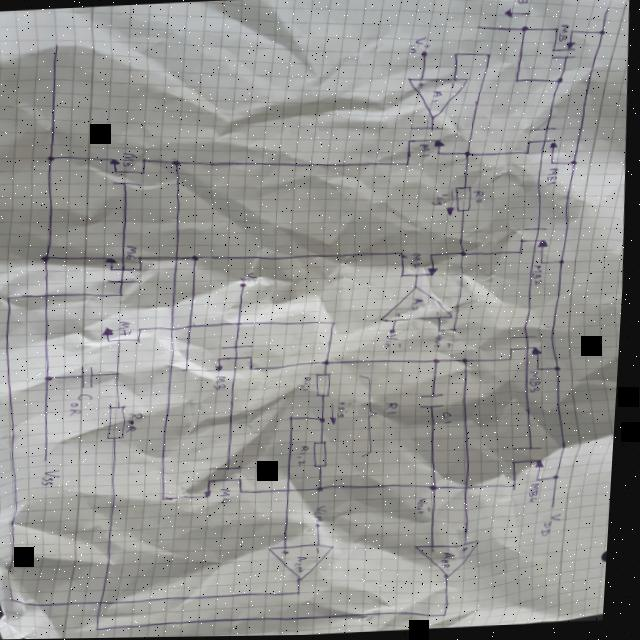capacitor: (420, 391, 452, 412), (82, 365, 100, 390)
crossover: (174, 255, 184, 263), (466, 486, 476, 492), (288, 489, 299, 494), (238, 321, 246, 326), (104, 600, 110, 605), (190, 325, 197, 329), (172, 327, 179, 331), (46, 293, 52, 297)
junction: (433, 485, 443, 493), (46, 155, 57, 161), (173, 160, 183, 166), (451, 52, 461, 58), (100, 625, 110, 631), (322, 417, 330, 424), (464, 151, 472, 158), (193, 255, 202, 261), (43, 255, 52, 261), (482, 54, 491, 60), (436, 359, 444, 365), (291, 415, 299, 421), (185, 367, 193, 373), (322, 486, 329, 492), (520, 27, 528, 32), (462, 251, 468, 257), (572, 162, 579, 167), (465, 359, 472, 364), (327, 360, 334, 365), (561, 260, 568, 265), (9, 295, 16, 300), (599, 31, 605, 36), (558, 368, 564, 373), (118, 371, 124, 376), (334, 321, 340, 326), (16, 596, 22, 601), (300, 592, 307, 596), (556, 80, 562, 84), (559, 477, 565, 481), (121, 292, 127, 296), (49, 377, 55, 381), (514, 80, 520, 84), (448, 613, 454, 617), (166, 497, 172, 501), (456, 328, 460, 333), (440, 330, 445, 334)
resistor: (108, 404, 133, 441), (454, 184, 476, 214), (316, 439, 334, 469), (317, 372, 336, 398)
terminal: (52, 40, 64, 50), (419, 50, 429, 59), (391, 329, 399, 335), (475, 26, 481, 31), (242, 284, 249, 288), (604, 8, 610, 12), (555, 506, 561, 510), (321, 523, 327, 527), (47, 458, 53, 462)
text: (71, 393, 99, 416), (545, 514, 569, 538), (408, 37, 432, 56), (529, 371, 546, 395), (383, 334, 407, 351), (339, 400, 357, 420), (435, 333, 456, 350), (431, 194, 456, 208), (420, 498, 438, 517), (130, 413, 148, 432), (45, 469, 65, 486), (444, 552, 462, 570), (222, 487, 239, 506), (316, 505, 333, 524), (300, 446, 314, 468), (298, 555, 315, 573), (546, 168, 562, 187), (532, 484, 547, 503), (242, 271, 261, 285), (534, 266, 546, 287), (126, 243, 141, 259), (557, 26, 570, 44), (303, 377, 317, 393), (412, 253, 425, 270), (473, 191, 487, 206), (413, 298, 427, 313), (216, 376, 230, 390), (121, 321, 135, 335), (388, 403, 403, 416), (124, 153, 137, 167), (444, 412, 457, 426), (430, 91, 444, 103), (421, 145, 432, 158), (515, 0, 534, 6), (285, 551, 296, 557), (320, 547, 327, 555), (416, 83, 424, 90), (450, 83, 456, 91), (467, 548, 476, 553), (435, 549, 443, 553), (398, 314, 406, 318), (438, 313, 443, 317)
transistor: (400, 124, 451, 169), (509, 445, 551, 492), (506, 332, 553, 374), (518, 126, 563, 168), (103, 253, 150, 289), (517, 225, 556, 267), (107, 153, 150, 191), (216, 341, 262, 375), (207, 464, 251, 499), (398, 248, 444, 281), (546, 24, 579, 64), (102, 324, 147, 346)
